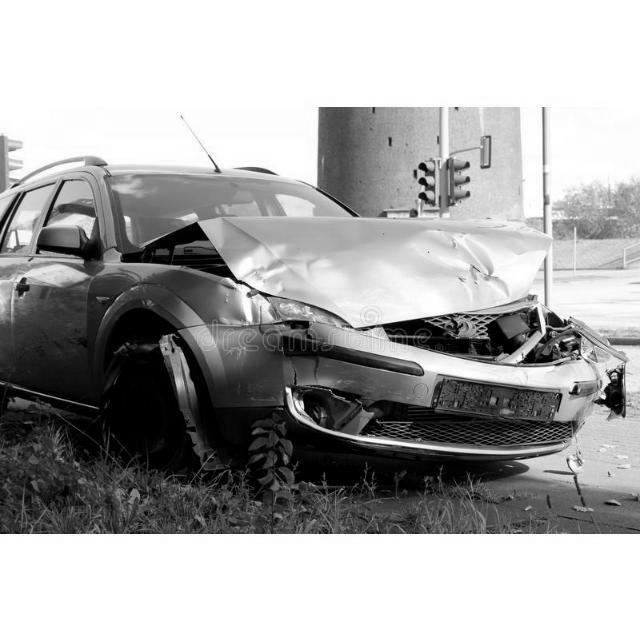bonnet-dent: (163, 210, 608, 363)
front-bumper-dent: (170, 308, 459, 461)
